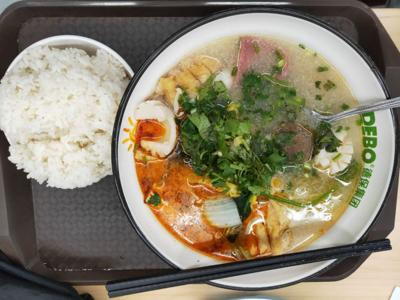rice: (4, 31, 123, 191)
